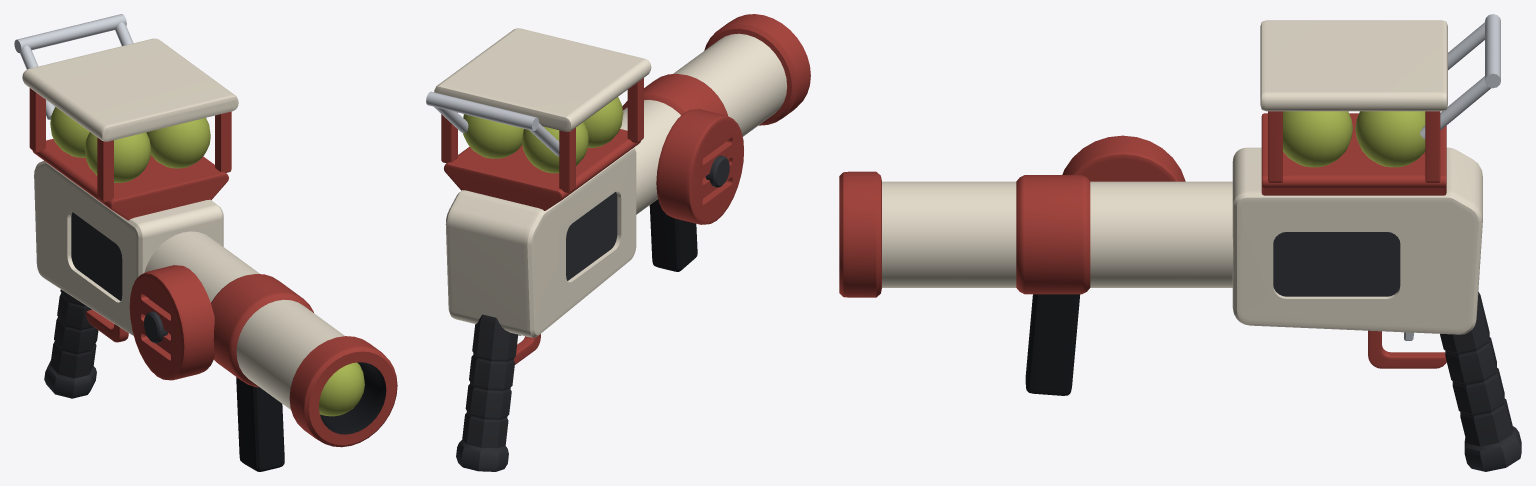
Rendered from w_tennis@tennis_machine.glb.
The picture shows the model from 3 angles, left to right: view 1: azimuth 30°, elevation 25°; view 2: azimuth 150°, elevation 25°; view 3: azimuth 270°, elevation 25°; orthographic projection. The views are drawn at different scales.
Parts seen in each view (by area): view 1: lid_wzB__body__pe4dccb, body_wzA__body__pe4dccb, barrel_wzA__body__pe4dccb, barrel_wzB__frame__pa13d36, drum_wzB__frame__pa13d36, tray_wzB__frame__pa13d36, hopper_wzN__ball__pa3b14d, fore_wzB__black__p16171b, grip_wzN__wrap__p2a2b2f, hopper_wzB__frame__pa13d36, body_wzN__dark__p2f3237, bar_wzN__chrome__pc9ced5 (+5 smaller); view 2: body_wzA__body__pe4dccb, lid_wzB__body__pe4dccb, barrel_wzA__body__pe4dccb, drum_wzB__frame__pa13d36, tray_wzB__frame__pa13d36, barrel_wzB__frame__pa13d36, grip_wzN__wrap__p2a2b2f, hopper_wzN__ball__pa3b14d, body_wzN__dark__p2f3237, hopper_wzB__frame__pa13d36, fore_wzB__black__p16171b, bar_wzN__chrome__pc9ced5 (+3 smaller); view 3: barrel_wzA__body__pe4dccb, body_wzA__body__pe4dccb, lid_wzB__body__pe4dccb, barrel_wzB__frame__pa13d36, body_wzN__dark__p2f3237, hopper_wzN__ball__pa3b14d, tray_wzB__frame__pa13d36, grip_wzN__wrap__p2a2b2f, fore_wzB__black__p16171b, drum_wzB__frame__pa13d36, bar_wzN__chrome__pc9ced5, hopper_wzB__frame__pa13d36 (+2 smaller).
Boxes of the visible parts, x1,y1,x2,y2 form: lid_wzB__body__pe4dccb: [22, 38, 238, 141]; body_wzA__body__pe4dccb: [34, 161, 223, 335]; barrel_wzA__body__pe4dccb: [144, 231, 344, 409]; barrel_wzB__frame__pa13d36: [211, 274, 397, 447]; drum_wzB__frame__pa13d36: [129, 265, 214, 380]; tray_wzB__frame__pa13d36: [32, 139, 228, 220]; hopper_wzN__ball__pa3b14d: [50, 107, 210, 182]; fore_wzB__black__p16171b: [236, 377, 284, 471]; grip_wzN__wrap__p2a2b2f: [47, 289, 98, 382]; hopper_wzB__frame__pa13d36: [29, 88, 231, 202]; body_wzN__dark__p2f3237: [71, 212, 122, 300]; bar_wzN__chrome__pc9ced5: [14, 14, 133, 119]; body_wzA__body__pe4dccb: [445, 147, 636, 337]; lid_wzB__body__pe4dccb: [434, 28, 651, 131]; barrel_wzA__body__pe4dccb: [620, 33, 787, 214]; drum_wzB__frame__pa13d36: [656, 109, 743, 224]; tray_wzB__frame__pa13d36: [444, 129, 640, 210]; barrel_wzB__frame__pa13d36: [622, 14, 810, 125]; grip_wzN__wrap__p2a2b2f: [459, 314, 518, 451]; hopper_wzN__ball__pa3b14d: [463, 97, 623, 173]; body_wzN__dark__p2f3237: [566, 192, 617, 280]; hopper_wzB__frame__pa13d36: [441, 78, 643, 192]; fore_wzB__black__p16171b: [649, 199, 697, 271]; bar_wzN__chrome__pc9ced5: [426, 91, 559, 156]; barrel_wzA__body__pe4dccb: [882, 181, 1233, 287]; body_wzA__body__pe4dccb: [1232, 147, 1482, 334]; lid_wzB__body__pe4dccb: [1260, 20, 1447, 111]; barrel_wzB__frame__pa13d36: [839, 171, 1090, 297]; body_wzN__dark__p2f3237: [1273, 232, 1400, 296]; hopper_wzN__ball__pa3b14d: [1283, 111, 1425, 167]; tray_wzB__frame__pa13d36: [1261, 113, 1446, 195]; grip_wzN__wrap__p2a2b2f: [1440, 291, 1516, 450]; fore_wzB__black__p16171b: [1025, 294, 1080, 395]; drum_wzB__frame__pa13d36: [1062, 135, 1185, 181]; bar_wzN__chrome__pc9ced5: [1419, 14, 1500, 139]; hopper_wzB__frame__pa13d36: [1268, 111, 1440, 182].
Size of the model in its own units: 0.172 by 0.4009 by 0.5898.
